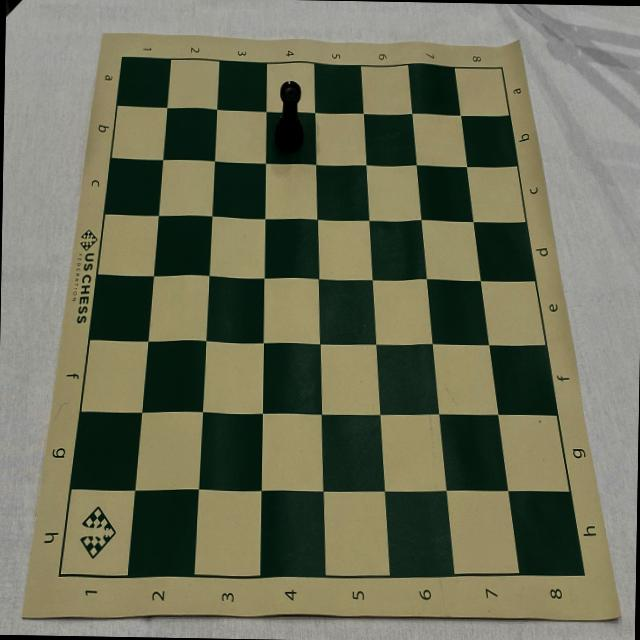black-rook: (274, 80, 304, 152)
